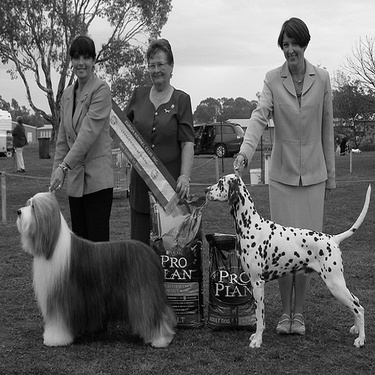dog: (196, 162, 371, 358), (9, 176, 186, 357)
